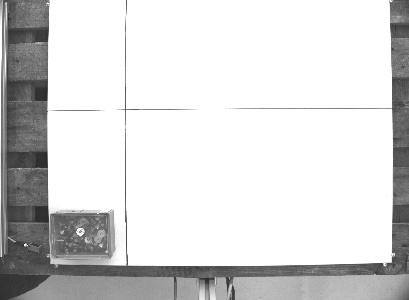klts: (46, 206, 119, 262)
